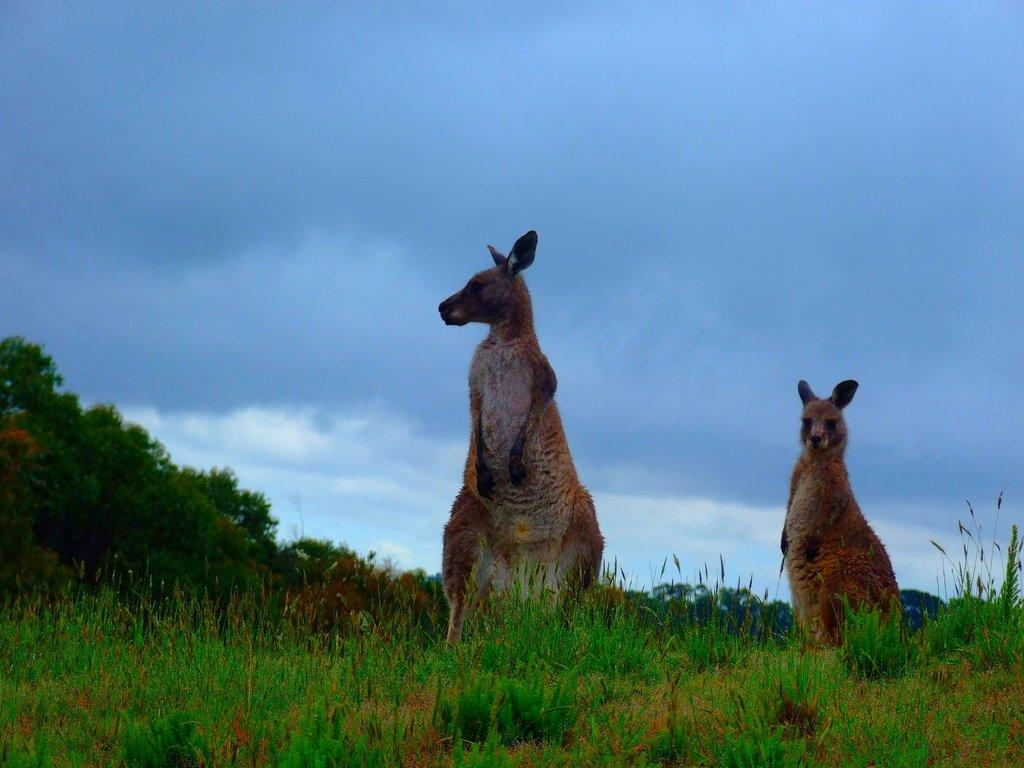kangaroo: (440, 230, 606, 653), (775, 376, 905, 648)
